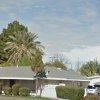Palm tree: (6, 24, 47, 72)
